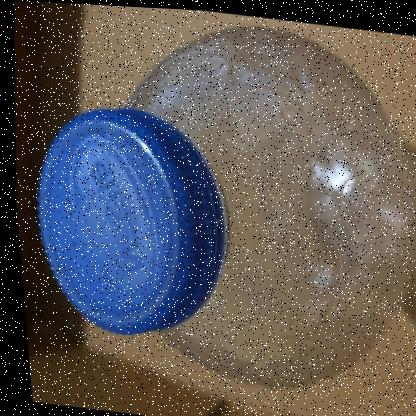bottle cap: (3, 30, 334, 404)
